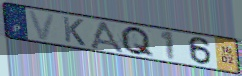1: (159, 30, 175, 62)
6: (187, 36, 213, 67)
A: (87, 20, 127, 55)
K: (61, 15, 87, 48)
Q: (120, 25, 156, 59)
V: (26, 9, 58, 42)
